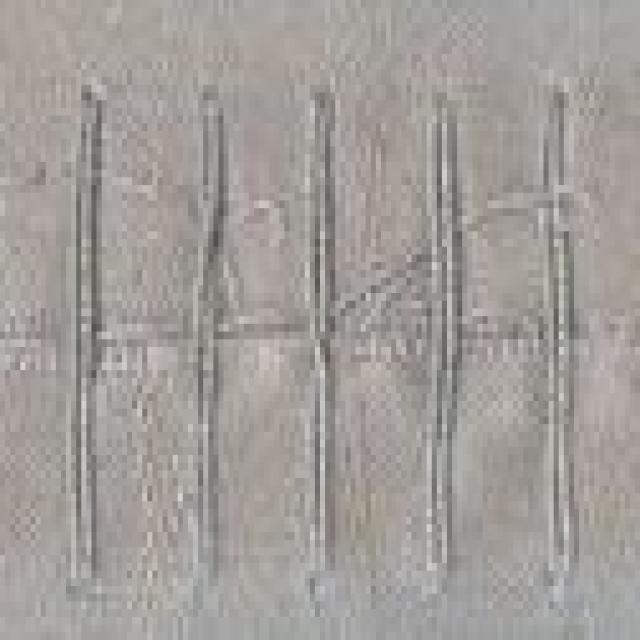Stitch: (5, 42, 640, 638)
